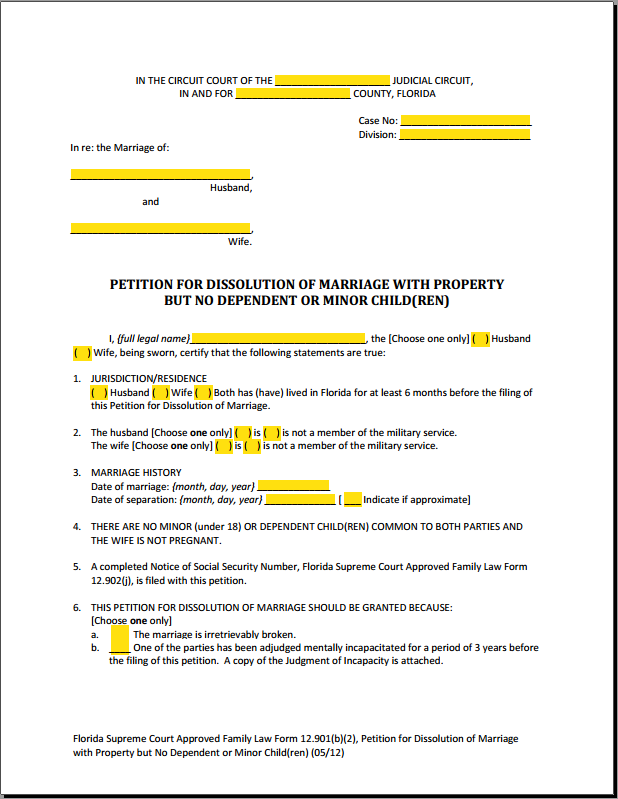checkbox: (470, 331, 490, 347), (71, 345, 91, 361), (88, 384, 108, 400), (150, 384, 170, 400), (192, 384, 212, 400), (232, 424, 252, 440), (260, 424, 280, 440), (241, 438, 261, 454), (213, 438, 233, 454)
textline: (68, 166, 254, 181), (68, 220, 254, 235), (188, 332, 369, 345), (398, 113, 532, 127), (397, 127, 531, 141), (272, 74, 391, 87), (232, 86, 351, 99), (255, 478, 331, 492), (261, 491, 337, 505), (341, 491, 362, 507), (106, 641, 131, 654)
